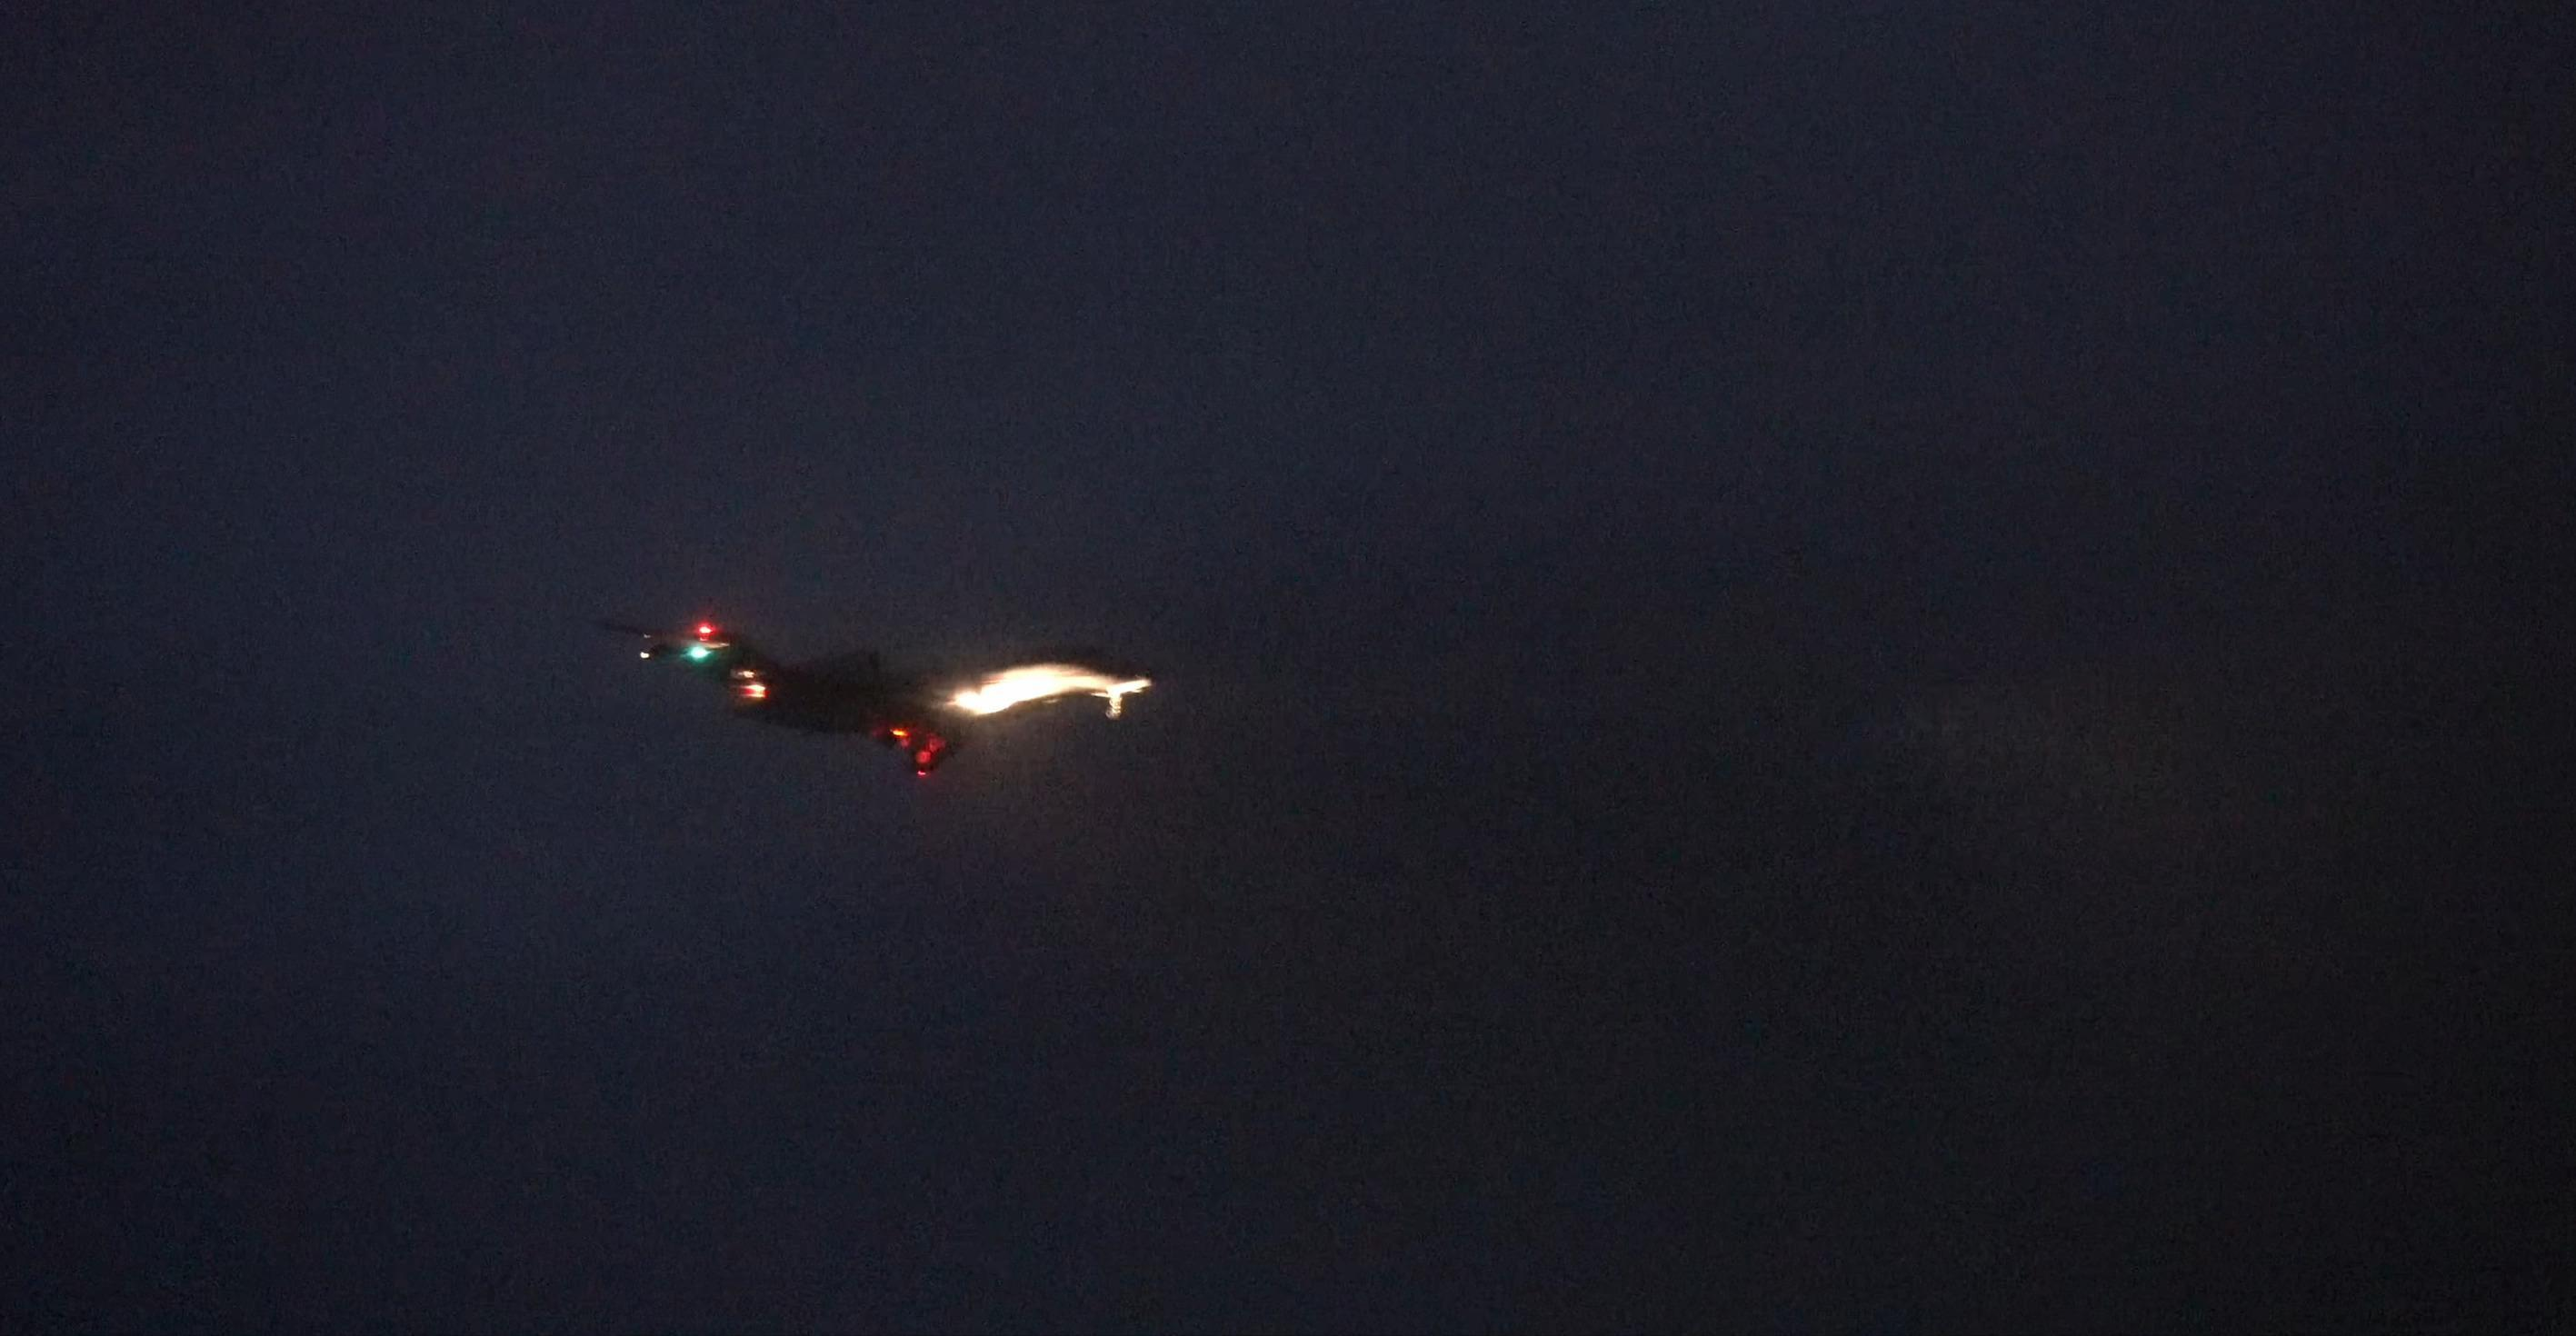Plane: (646, 579, 1170, 811)
